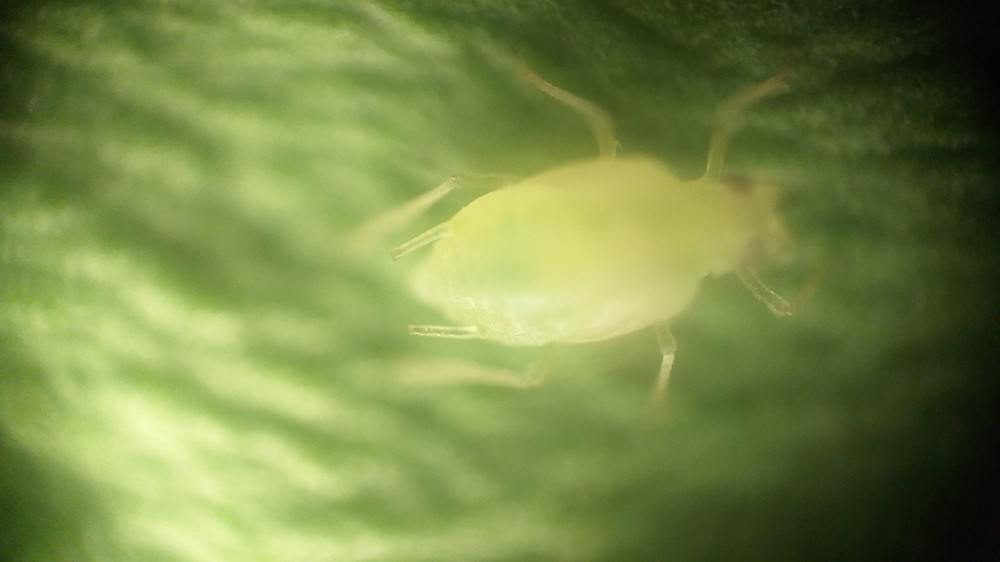Pulgon: (348, 70, 844, 407)
